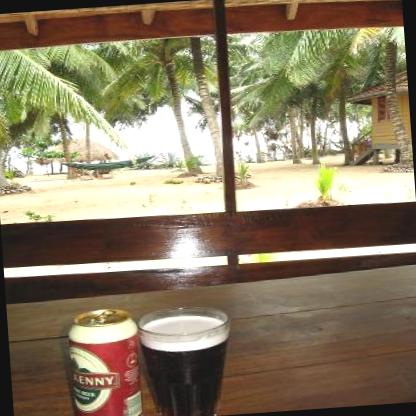alumunium_can: (63, 308, 144, 416)
objects: (134, 302, 238, 416)
